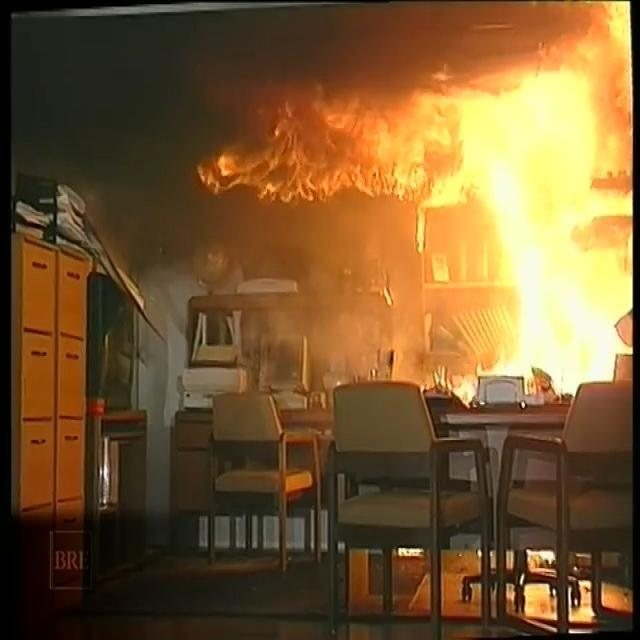Fire: (177, 7, 640, 416)
